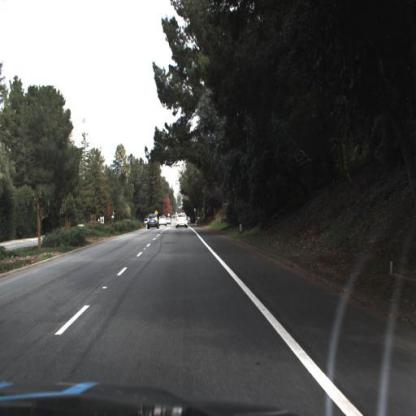car: (176, 211, 192, 232), (145, 212, 160, 234), (159, 216, 168, 230)
